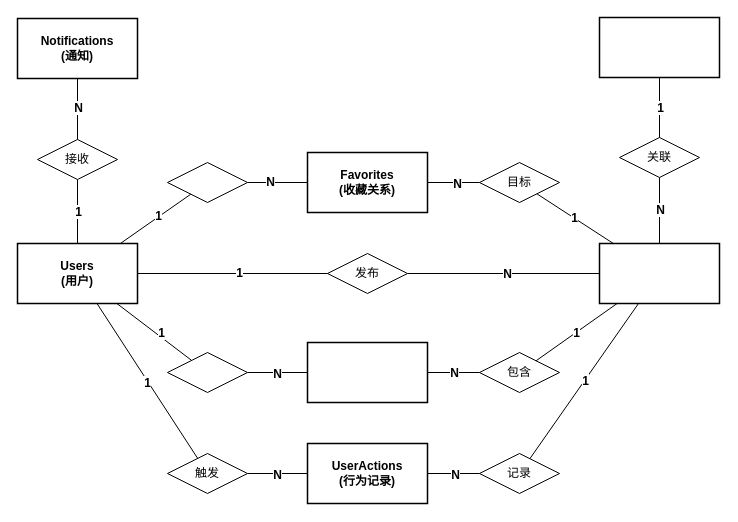
This 738x522 diagram has some shape labels left out. Each missing label, with the box of its shape:
Applications (申请记录): (306, 341, 428, 403)
Companies (公司): (598, 16, 720, 78)
Jobs (职位): (598, 242, 720, 304)
发起: (166, 162, 248, 202)
提交: (166, 352, 248, 392)
